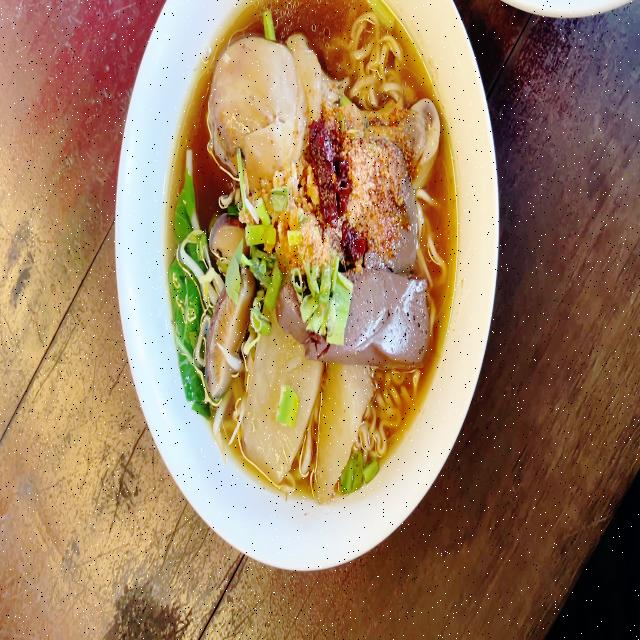boiled_chicken_blood_jelly: (292, 264, 429, 367)
chicken_drumstick: (208, 37, 440, 187)
daikon_radish: (247, 325, 373, 483)
noodle: (155, 0, 453, 497)
